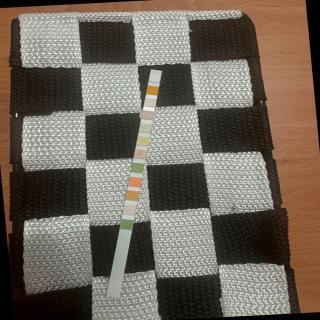mark: (124, 204, 136, 214), (135, 149, 147, 159), (122, 220, 133, 230), (127, 190, 138, 200), (142, 110, 152, 120), (129, 178, 141, 186), (132, 164, 144, 172), (140, 124, 152, 132), (150, 74, 162, 82), (147, 86, 157, 95), (138, 136, 149, 144), (146, 98, 156, 106)
